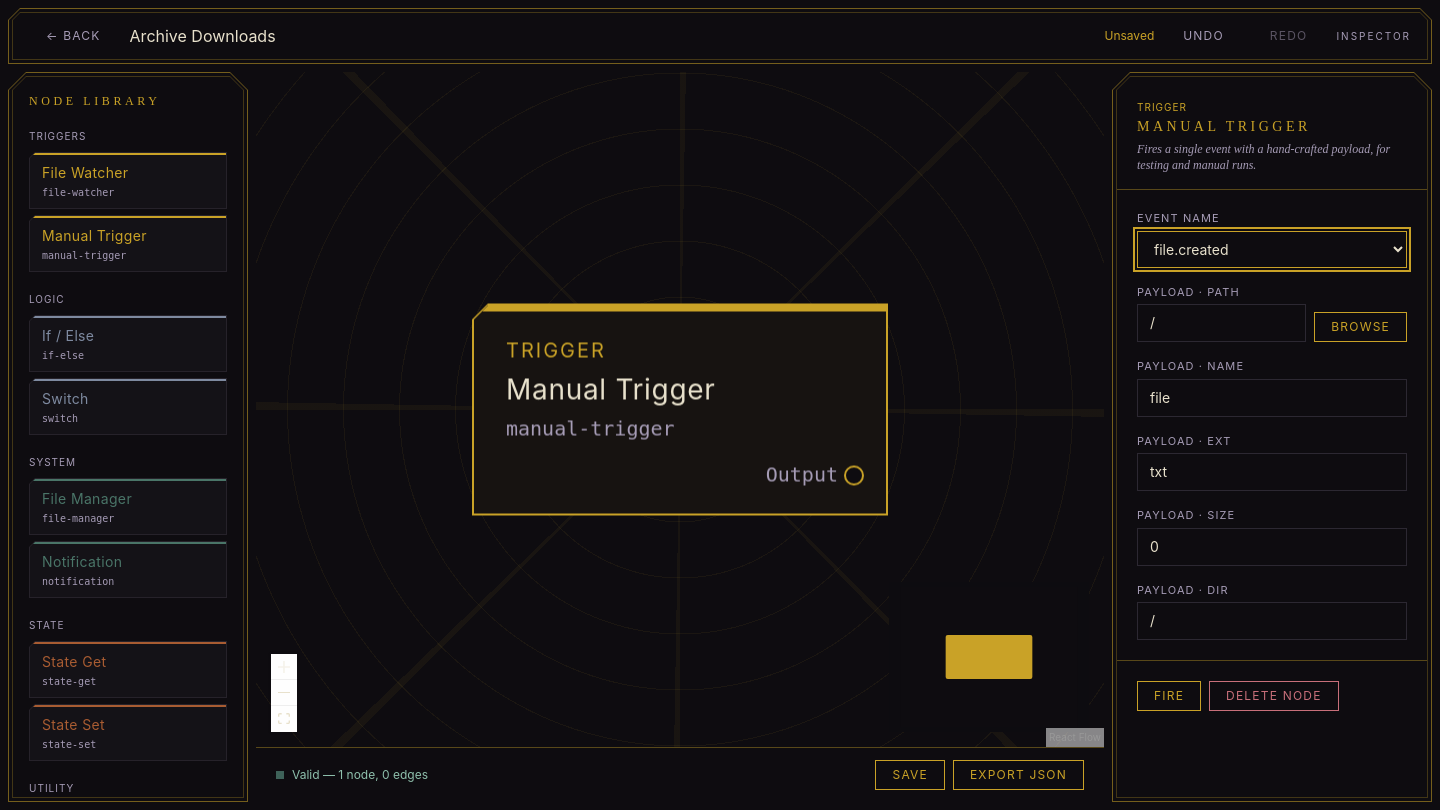
Test case: Workflow Builder renderer behavior › keeps persistence failures visible and offers a retryable save state
Click the button "Save": x=910, y=775 [876,760,945,790]
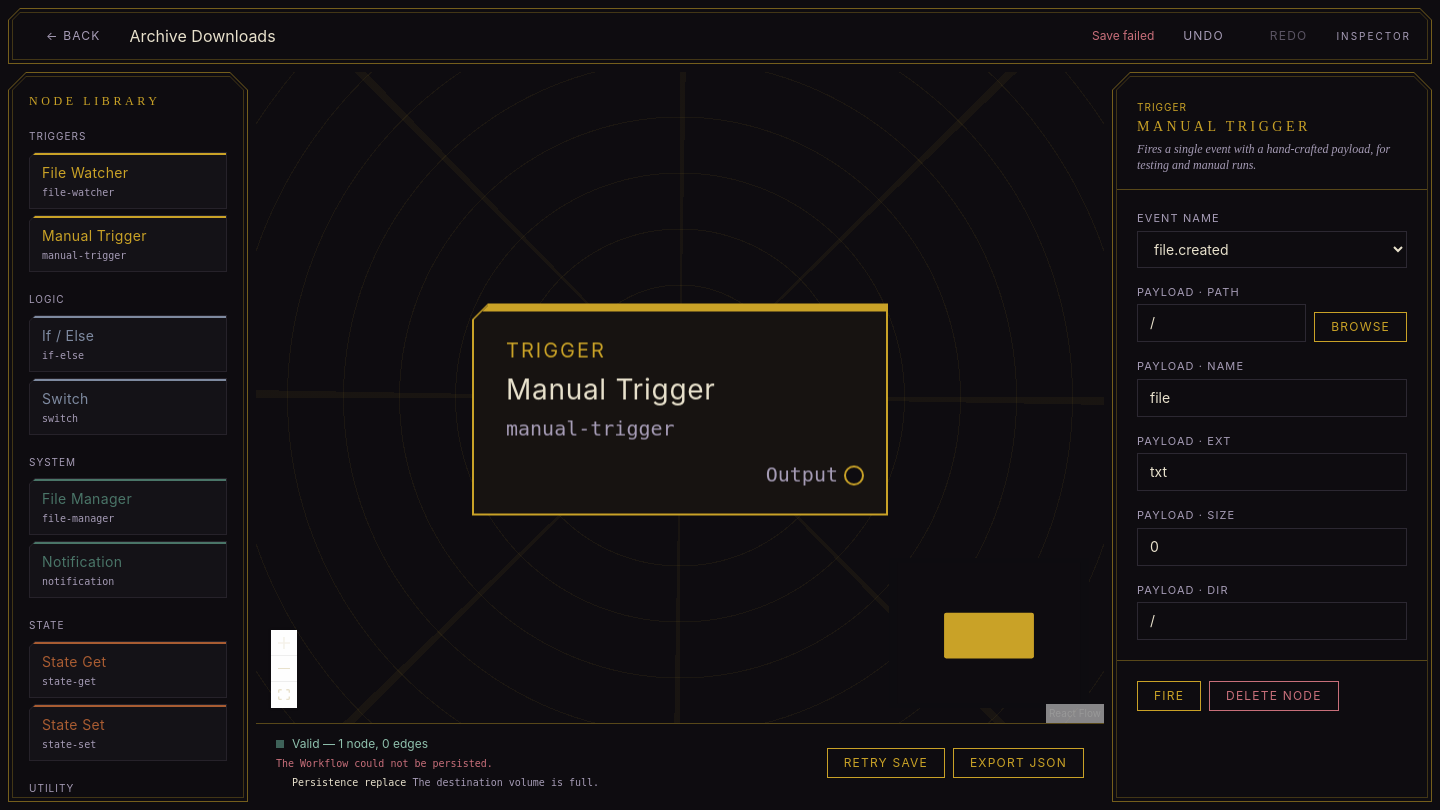
Expected: the button "Retry Save" is enabled, [827,748,945,778]
Now the message that starts with "The Workflow could not be persisted." is shown, box [276,758,493,769]
Now the text "The destination volume is full." is shown, box [412,777,599,788]
